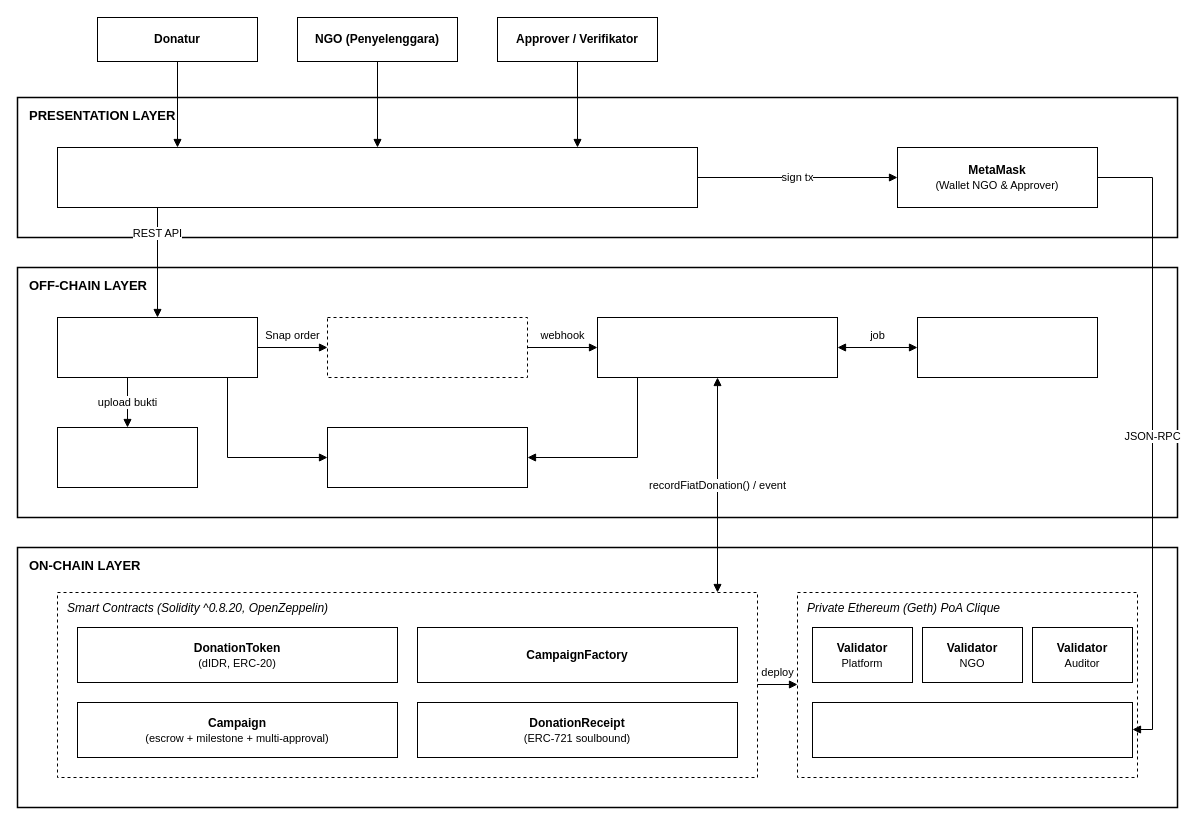
Image size: 1198x826. Some labels were removed from this diagram. The centre of each missing label's shape, as x and y in pixels:
"Backend API Node.js + Express" goes at point 157,347.
"BullMQ + Redis (antrean & retry tx)" goes at point 1007,347.
"Frontend Web Next.js + TypeScript, Tailwind CSS, wagmi/viem" goes at point 377,177.
"IPFS (Pinata/web3.storage)" goes at point 127,457.
"Midtrans Sandbox (Payment Gateway, eksternal)" goes at point 427,347.
"Oracle Service Payment Oracle + Event Listener" goes at point 717,347.
"PostgreSQL (orderId ↔ txHash, cache)" goes at point 427,457.
"RPC Read-only + Blockscout (akses baca publik)" goes at point 972,730.
